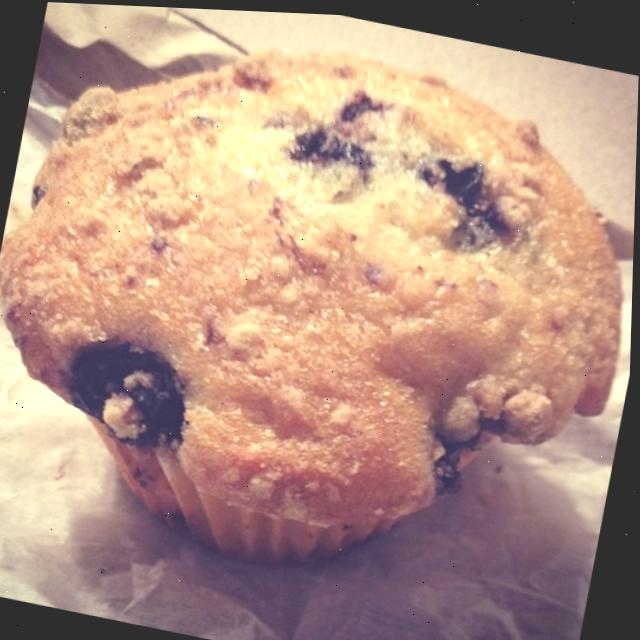炸货点心: (0, 0, 640, 630)
面包点心: (0, 0, 640, 630)
